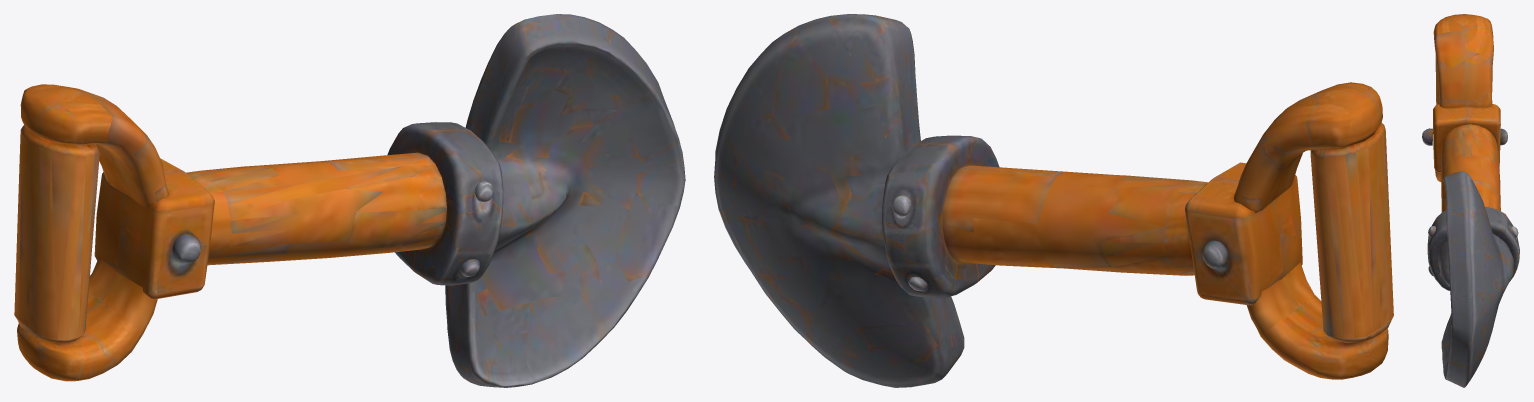
The model's file is tool_shovel.glb.
3 views of the same model, side by side, from view 1: azimuth 30°, elevation 25°; view 2: azimuth 150°, elevation 25°; view 3: azimuth 270°, elevation 25° (orthographic). The views are drawn at different scales.
Size of the model in its own units: 1 by 0.587 by 0.2242.
1 material, 1 textured.
